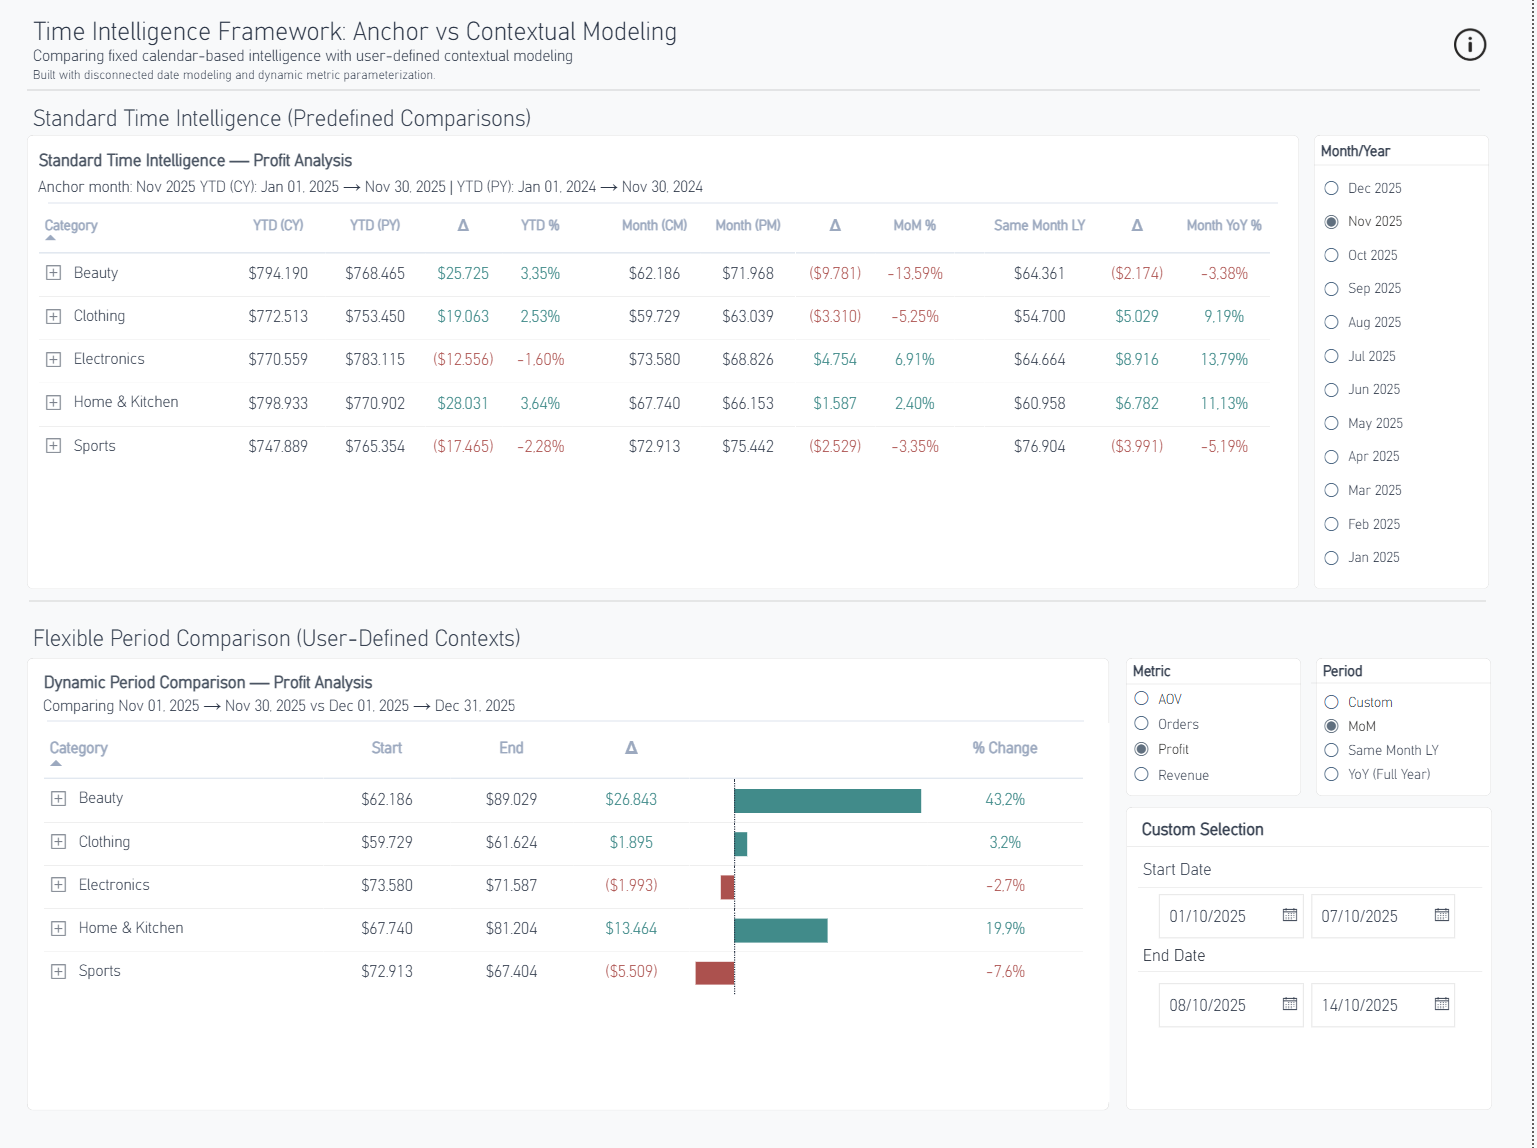

Layout of this report page (visuals, bound fields, positions):
{"tool":"powerbi","page":{"name":"Framework","canvas":[1280,1000],"ordinal":0},"visuals":[{"type":"shape","box":[25.8,113.9,1060,378.3],"z":0,"group":"g6"},{"type":"shape","box":[1098.3,114.2,145.8,378.3],"z":0},{"type":"shape","box":[25.8,550,901.7,377],"z":0,"group":"g1"},{"type":"pivotTable","fields":{"Rows":["fSales.Product_Category","fSales.Region"],"Values":["__Measures.Metric Current Year","__Measures.Metric Previous Year","__Measures.Δ YTD","__Measures.YTD %","__Measures.Spacer","__Measures.Metric Current (Month)","__Measures.Metric Previous Month","__Measures.Metric Δ MoM","__Measures.Metric MoM %","__Measures.Spacer","__Measures.Metric LY (Same Month)","__Measures.Metric Δ YoY"]},"box":[30.9,168.9,1045,316.7],"z":1000,"group":"g6"},{"type":"shape","box":[1100,550,145.8,115],"z":1000},{"type":"pivotTable","fields":{"Rows":["fSales.Product_Category","fSales.Region"],"Values":["__Measures.Start Date Metric Value","__Measures.End Date Metric Value","__Measures.Metric Var Abs","__Measures.Metric Var Abs (Data Bar)","__Measures.Metric Var %"]},"box":[34.8,604,893,316],"z":1000,"group":"g1"},{"type":"slicer","fields":{"Values":["_Start Date.Start Date"]},"box":[945,736.7,287.8,51.6],"z":1000,"group":"g3"},{"type":"slicer","fields":{"Values":["_End Date.End Date"]},"box":[945.4,812.8,288.2,50.8],"z":1000,"group":"g4"},{"type":"shape","box":[941.7,550,145.8,115],"z":2000},{"type":"listSlicer","fields":{"Values":["Metric.Metric"]},"box":[942.5,572.2,145.8,92],"z":3000},{"type":"cardVisual","fields":{"Data":["__Measures.Standard Subtitle"]},"box":[35.1,133.2,595,44.2],"z":4000,"group":"g6"},{"type":"cardVisual","fields":{"Data":["__Measures.Comparison Subtitle (Corp)"]},"box":[39.1,563.3,678.3,50.8],"z":4000,"group":"g1"},{"type":"shape","box":[941.7,674.2,305,252.5],"z":4000},{"type":"group","id":"g1","title":"Grupo 1","box":[25.8,550,902,377],"z":5000},{"type":"textbox","box":[25.8,10.2,768.3,39.2],"z":6000},{"type":"cardVisual","fields":{"Data":["__Measures.Standard Title"]},"box":[30.9,114.7,438.3,37.5],"z":6000,"group":"g6"},{"type":"cardVisual","fields":{"Data":["__Measures.Dynamic Title"]},"box":[34.7,550,566.7,37.2],"z":6000,"group":"g1"},{"type":"shape","box":[25.8,65,1215.8,23.3],"z":7000},{"type":"textbox","box":[25.8,83.3,425.8,39.2],"z":8000},{"type":"shape","box":[27.5,490.8,1214.2,23.3],"z":9000},{"type":"textbox","box":[25.8,516.8,636.7,39.2],"z":10000},{"type":"group","id":"g2","title":"Group 2","box":[945,712.6,293.7,75.6],"z":11000},{"type":"textbox","box":[951,712.6,123.6,38.1],"z":11000,"group":"g3"},{"type":"textbox","box":[951.4,786.5,123.6,33],"z":11000,"group":"g4"},{"type":"listSlicer","fields":{"Values":["_Periods.Period Label"]},"box":[1100.8,571.7,145.8,92.5],"z":12000},{"type":"shape","box":[951.7,735,287.1,12.3],"z":12000,"group":"g3"},{"type":"shape","box":[952.1,807.9,287.1,10.7],"z":12000,"group":"g4"},{"type":"group","id":"g3","title":"Group 1","box":[945,712.6,293.7,75.6],"z":12001,"group":"g2"},{"type":"group","id":"g4","title":"Group 1","box":[945.4,786.5,293.7,77.1],"z":12001,"group":"g5"},{"type":"shape","box":[942.5,700.8,301.7,12.5],"z":13000},{"type":"group","id":"g5","title":"Group 2","box":[945.4,786.5,293.7,77.1],"z":14000},{"type":"textbox","box":[950,679.2,229.2,39.2],"z":15000},{"type":"shape","box":[42.5,597.5,864,10],"z":16000},{"type":"shape","box":[941.7,565,145.8,13.3],"z":17000},{"type":"listSlicer","fields":{"Values":["_dimCalendar.Month Year"]},"box":[1100.8,139.2,140.8,346.7],"z":18000},{"type":"group","id":"g6","title":"Grupo 1","box":[25.8,113.9,1060,378.3],"z":19000},{"type":"textbox","box":[942.5,548.3,138.3,28.3],"z":20000},{"type":"shape","box":[1095.8,565,150,11.7],"z":21000},{"type":"textbox","box":[1100.8,548.3,138.3,28.3],"z":22000},{"type":"shape","box":[43.3,165.5,1025,10],"z":23000},{"type":"shape","box":[1098.3,133,145.8,11.7],"z":24000},{"type":"textbox","box":[1099.2,114.7,138.3,28.3],"z":25000},{"type":"textbox","box":[25.8,35.8,534.2,27.5],"z":26000},{"type":"actionButton","box":[1214.6,23.1,26.9,31.5],"z":27000},{"type":"textbox","box":[25.8,51.7,534.2,27.5],"z":28000},{"type":"cardVisual","fields":{"Data":["__Measures.Button Tooltip"]},"box":[1208,11,39,54],"z":30000}]}

Visuals, with their boxes on the page's 1280x1000 design canvas (x1, y1, x2, y2). These are canvas units, not pixel positions in the 1537x1148 screenshot, which may show the page scaled, cropped or inside an application window:
shape: crop(26, 114, 1086, 492)
shape: crop(1098, 114, 1244, 492)
shape: crop(26, 550, 928, 927)
pivotTable - fSales.Product_Category x fSales.Region: crop(31, 169, 1076, 486)
shape: crop(1100, 550, 1246, 665)
pivotTable - fSales.Product_Category x fSales.Region: crop(35, 604, 928, 920)
slicer - _Start Date.Start Date: crop(945, 737, 1233, 788)
slicer - _End Date.End Date: crop(945, 813, 1234, 864)
shape: crop(942, 550, 1088, 665)
listSlicer - Metric.Metric: crop(942, 572, 1088, 664)
cardVisual - __Measures.Standard Subtitle: crop(35, 133, 630, 177)
cardVisual - __Measures.Comparison Subtitle (Corp): crop(39, 563, 717, 614)
shape: crop(942, 674, 1247, 927)
"Grupo 1" group: crop(26, 550, 928, 927)
textbox: crop(26, 10, 794, 49)
cardVisual - __Measures.Standard Title: crop(31, 115, 469, 152)
cardVisual - __Measures.Dynamic Title: crop(35, 550, 601, 587)
shape: crop(26, 65, 1242, 88)
textbox: crop(26, 83, 452, 122)
shape: crop(28, 491, 1242, 514)
textbox: crop(26, 517, 662, 556)
"Group 2" group: crop(945, 713, 1239, 788)
textbox: crop(951, 713, 1075, 751)
textbox: crop(951, 786, 1075, 820)
listSlicer - _Periods.Period Label: crop(1101, 572, 1247, 664)
shape: crop(952, 735, 1239, 747)
shape: crop(952, 808, 1239, 819)
"Group 1" group: crop(945, 713, 1239, 788)
"Group 1" group: crop(945, 786, 1239, 864)
shape: crop(942, 701, 1244, 713)
"Group 2" group: crop(945, 786, 1239, 864)
textbox: crop(950, 679, 1179, 718)
shape: crop(42, 598, 906, 608)
shape: crop(942, 565, 1088, 578)
listSlicer - _dimCalendar.Month Year: crop(1101, 139, 1242, 486)
"Grupo 1" group: crop(26, 114, 1086, 492)
textbox: crop(942, 548, 1081, 577)
shape: crop(1096, 565, 1246, 577)
textbox: crop(1101, 548, 1239, 577)
shape: crop(43, 166, 1068, 176)
shape: crop(1098, 133, 1244, 145)
textbox: crop(1099, 115, 1238, 143)
textbox: crop(26, 36, 560, 63)
actionButton: crop(1215, 23, 1242, 55)
textbox: crop(26, 52, 560, 79)
cardVisual - __Measures.Button Tooltip: crop(1208, 11, 1247, 65)
